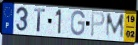1: (55, 9, 62, 35)
3: (14, 6, 30, 33)
G: (70, 10, 87, 37)
M: (105, 13, 126, 39)
P: (90, 11, 106, 38)
T: (34, 7, 47, 33)
